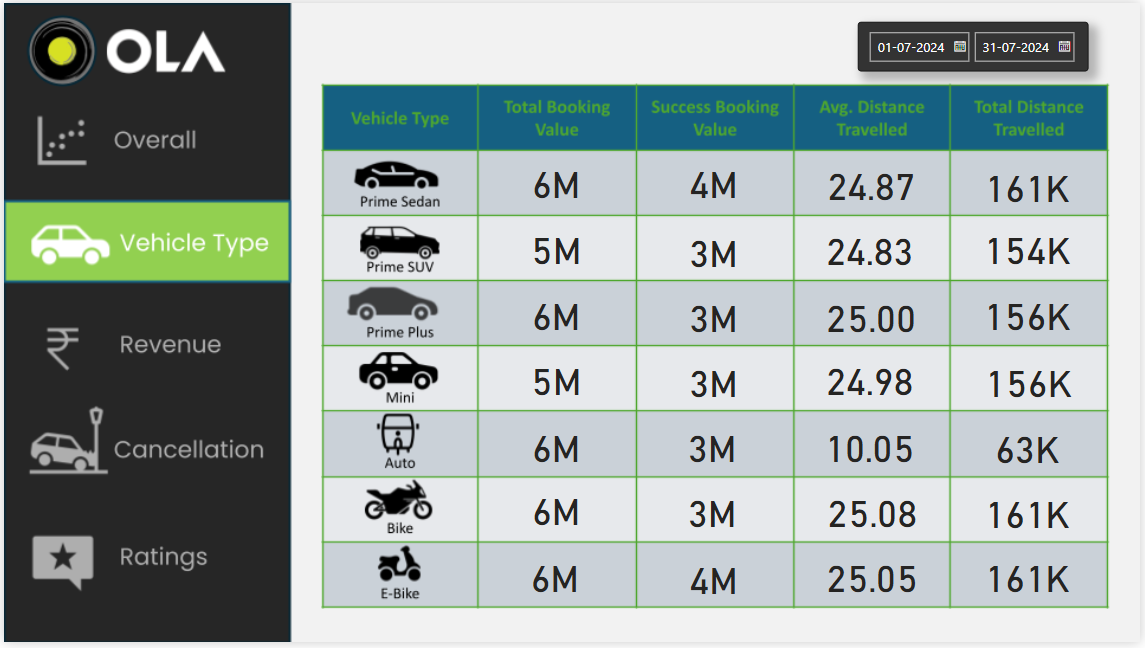

Layout of this report page (visuals, bound fields, positions):
{"tool":"powerbi","page":{"name":"vehicle type","canvas":[1280,720],"ordinal":1},"visuals":[{"type":"actionButton","box":[0,357.1,320,68.6],"z":0},{"type":"actionButton","box":[0,471.4,320,67.1],"z":1000},{"type":"actionButton","box":[0,595.7,320,68.6],"z":2000},{"type":"actionButton","box":[0,120,320,67.1],"z":3000},{"type":"card","fields":{"Values":["Sum(July.Booking_Value)"]},"box":[540,170,165.7,60],"z":3001},{"type":"card","fields":{"Values":["Sum(July.Booking_Value)"]},"box":[540,245.7,165.7,60],"z":3002},{"type":"card","fields":{"Values":["Sum(July.Booking_Value)"]},"box":[540,320,165.7,60],"z":3003},{"type":"card","fields":{"Values":["Sum(July.Booking_Value)"]},"box":[540,392.9,165.7,60],"z":3004},{"type":"card","fields":{"Values":["Sum(July.Booking_Value)"]},"box":[540,467.1,165.7,60],"z":3005},{"type":"card","fields":{"Values":["Sum(July.Booking_Value)"]},"box":[540,540,165.7,60],"z":3006},{"type":"card","fields":{"Values":["Sum(July.Booking_Value)"]},"box":[538.6,614.3,165.7,60],"z":3007},{"type":"card","fields":{"Values":["Sum(July.Booking_Value)"]},"box":[717.1,170,165.7,60],"z":3008},{"type":"card","fields":{"Values":["Sum(July.Booking_Value)"]},"box":[717.1,248.6,165.7,60],"z":3009},{"type":"card","fields":{"Values":["Sum(July.Booking_Value)"]},"box":[717.1,321.4,165.7,60],"z":3010},{"type":"card","fields":{"Values":["Sum(July.Booking_Value)"]},"box":[717.1,394.3,165.7,60],"z":3011},{"type":"card","fields":{"Values":["Sum(July.Booking_Value)"]},"box":[715.7,467.1,165.7,60],"z":3012},{"type":"card","fields":{"Values":["Sum(July.Booking_Value)"]},"box":[715.7,541.4,165.7,60],"z":3013},{"type":"card","fields":{"Values":["Sum(July.Booking_Value)"]},"box":[717.1,617.1,165.7,60],"z":3014},{"type":"card","fields":{"Values":["Avg(July.Ride_Distance)"]},"box":[894.3,172.9,165.7,60],"z":3015},{"type":"card","fields":{"Values":["Avg(July.Ride_Distance)"]},"box":[892.9,247.1,165.7,60],"z":3016},{"type":"card","fields":{"Values":["Avg(July.Ride_Distance)"]},"box":[894.3,321.4,165.7,60],"z":3017},{"type":"card","fields":{"Values":["Avg(July.Ride_Distance)"]},"box":[892.9,392.9,165.7,60],"z":3018},{"type":"card","fields":{"Values":["Avg(July.Ride_Distance)"]},"box":[892.9,467.1,165.7,60],"z":3019},{"type":"card","fields":{"Values":["Avg(July.Ride_Distance)"]},"box":[895.7,541.4,165.7,60],"z":3020},{"type":"card","fields":{"Values":["Avg(July.Ride_Distance)"]},"box":[895.7,614.3,165.7,60],"z":3021},{"type":"card","fields":{"Values":["Sum(July.Ride_Distance)"]},"box":[1070,174.3,165.7,60],"z":3022},{"type":"card","fields":{"Values":["Sum(July.Ride_Distance)"]},"box":[1070,245.7,165.7,60],"z":3023},{"type":"card","fields":{"Values":["Sum(July.Ride_Distance)"]},"box":[1070,320,165.7,60],"z":3024},{"type":"card","fields":{"Values":["Sum(July.Ride_Distance)"]},"box":[1071.4,394.3,165.7,60],"z":3025},{"type":"card","fields":{"Values":["Sum(July.Ride_Distance)"]},"box":[1070,468.6,165.7,60],"z":3026},{"type":"card","fields":{"Values":["Sum(July.Ride_Distance)"]},"box":[1070,542.9,165.7,60],"z":3027},{"type":"card","fields":{"Values":["Sum(July.Ride_Distance)"]},"box":[1070,614.3,165.7,60],"z":3028},{"type":"slicer","title":"Date","fields":{"Values":["July.Date"]},"box":[961.4,21.4,260,55.7],"z":3029}]}

Visuals, with their boxes on the page's 1280x720 design canvas (x1, y1, x2, y2). These are canvas units, not pixel positions in the 1145x648 screenshot, which may show the page scaled, cropped or inside an application window:
actionButton: Rect(0, 357, 320, 426)
actionButton: Rect(0, 471, 320, 538)
actionButton: Rect(0, 596, 320, 664)
actionButton: Rect(0, 120, 320, 187)
card - Sum(July.Booking_Value): Rect(540, 170, 706, 230)
card - Sum(July.Booking_Value): Rect(540, 246, 706, 306)
card - Sum(July.Booking_Value): Rect(540, 320, 706, 380)
card - Sum(July.Booking_Value): Rect(540, 393, 706, 453)
card - Sum(July.Booking_Value): Rect(540, 467, 706, 527)
card - Sum(July.Booking_Value): Rect(540, 540, 706, 600)
card - Sum(July.Booking_Value): Rect(539, 614, 704, 674)
card - Sum(July.Booking_Value): Rect(717, 170, 883, 230)
card - Sum(July.Booking_Value): Rect(717, 249, 883, 309)
card - Sum(July.Booking_Value): Rect(717, 321, 883, 381)
card - Sum(July.Booking_Value): Rect(717, 394, 883, 454)
card - Sum(July.Booking_Value): Rect(716, 467, 881, 527)
card - Sum(July.Booking_Value): Rect(716, 541, 881, 601)
card - Sum(July.Booking_Value): Rect(717, 617, 883, 677)
card - Avg(July.Ride_Distance): Rect(894, 173, 1060, 233)
card - Avg(July.Ride_Distance): Rect(893, 247, 1059, 307)
card - Avg(July.Ride_Distance): Rect(894, 321, 1060, 381)
card - Avg(July.Ride_Distance): Rect(893, 393, 1059, 453)
card - Avg(July.Ride_Distance): Rect(893, 467, 1059, 527)
card - Avg(July.Ride_Distance): Rect(896, 541, 1061, 601)
card - Avg(July.Ride_Distance): Rect(896, 614, 1061, 674)
card - Sum(July.Ride_Distance): Rect(1070, 174, 1236, 234)
card - Sum(July.Ride_Distance): Rect(1070, 246, 1236, 306)
card - Sum(July.Ride_Distance): Rect(1070, 320, 1236, 380)
card - Sum(July.Ride_Distance): Rect(1071, 394, 1237, 454)
card - Sum(July.Ride_Distance): Rect(1070, 469, 1236, 529)
card - Sum(July.Ride_Distance): Rect(1070, 543, 1236, 603)
card - Sum(July.Ride_Distance): Rect(1070, 614, 1236, 674)
"Date" slicer: Rect(961, 21, 1221, 77)
